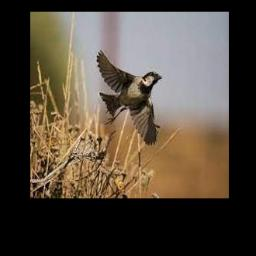Sparrow: (96, 50, 162, 145)
